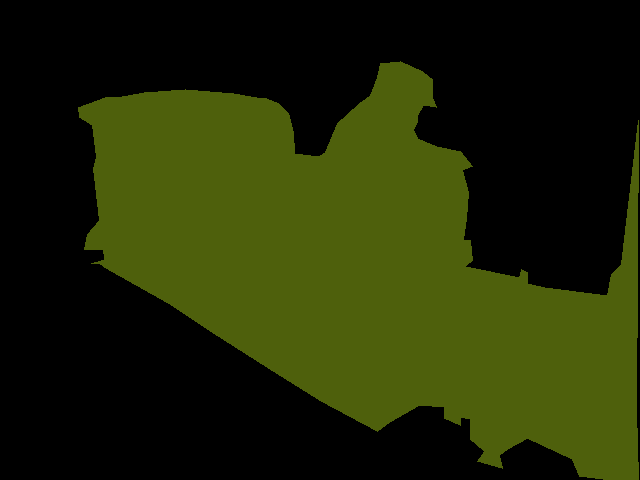Train: (78, 61, 638, 480)
